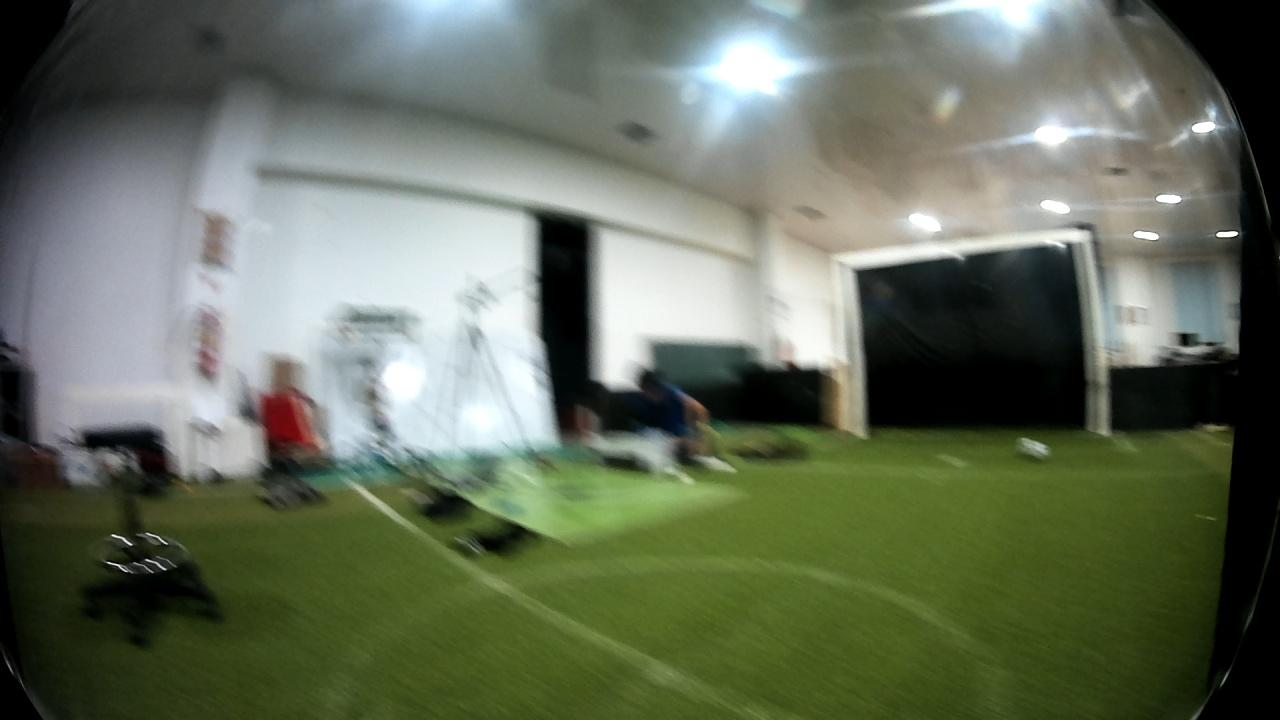ball: (1009, 434, 1055, 466)
